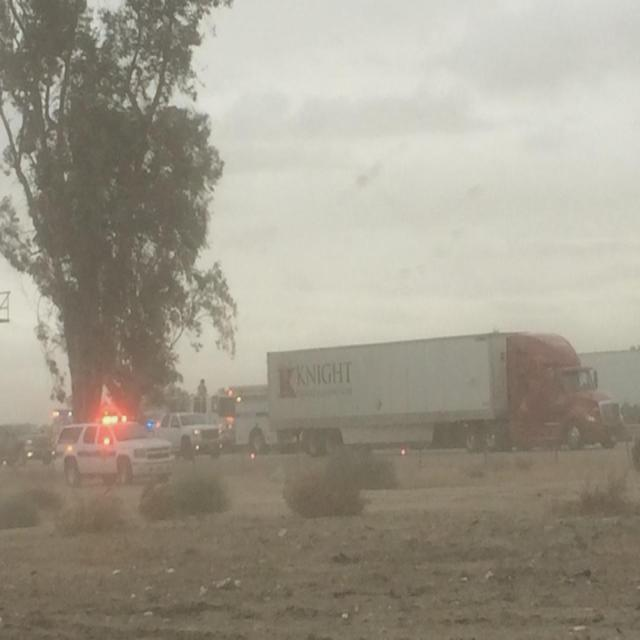Car: (158, 412, 224, 459)
Truck: (267, 330, 615, 454)
